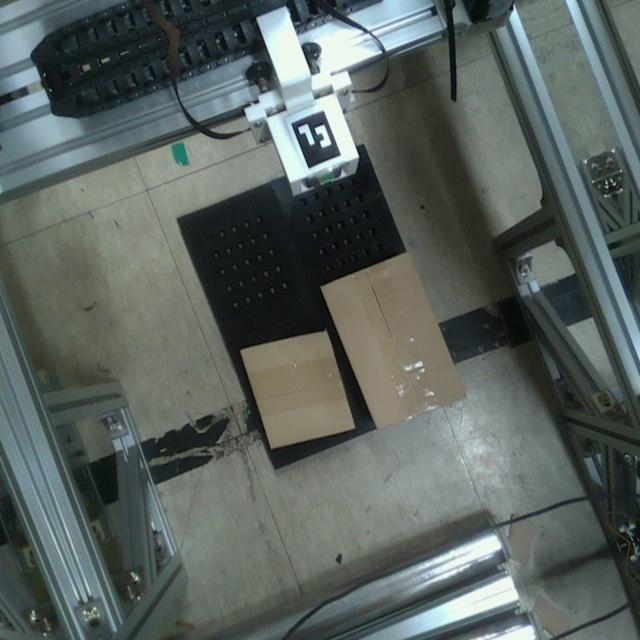box: (313, 244, 471, 436), (233, 323, 359, 454)
